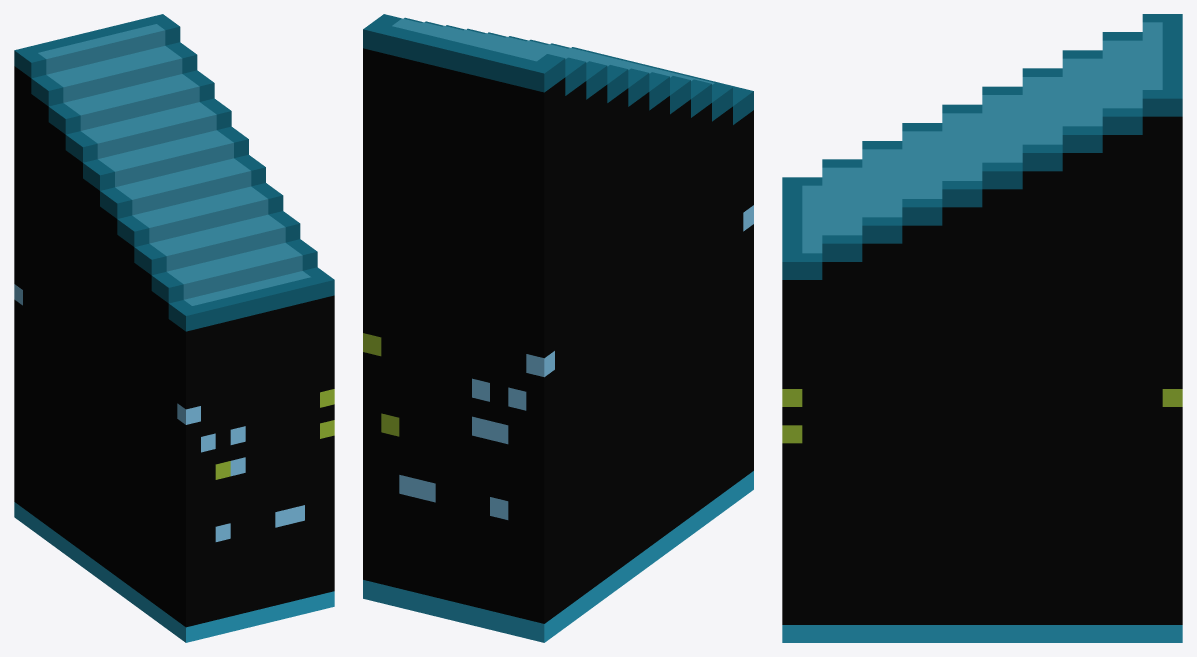
The model's file is blue-dispenser.obj.
The picture shows the model from 3 angles, left to right: view 1: azimuth 30°, elevation 25°; view 2: azimuth 150°, elevation 25°; view 3: azimuth 270°, elevation 25°; orthographic projection. The views are drawn at different scales.
Size of the model in its own units: 1 by 3 by 2.
Materials: 1 (1 with a texture image).
